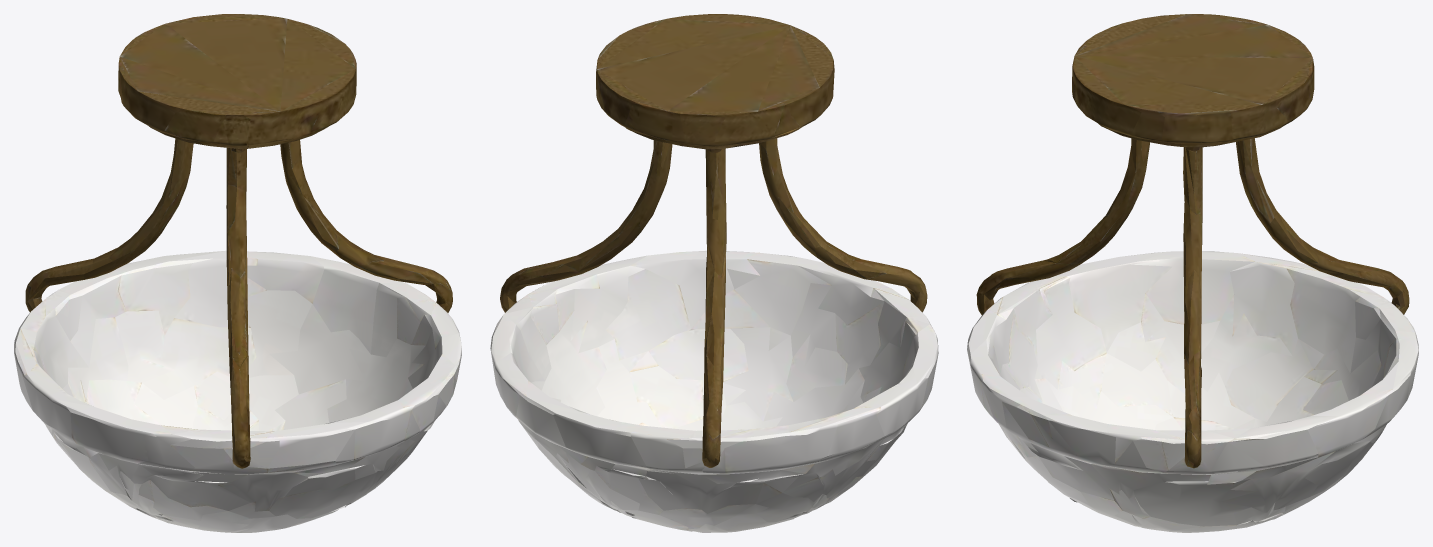
File: ceiling_lamp.glb
The picture shows the model from 3 angles, left to right: view 1: azimuth 30°, elevation 25°; view 2: azimuth 150°, elevation 25°; view 3: azimuth 270°, elevation 25°; orthographic projection.
Visible parts, largest first — view 1: Mesh_0; view 2: Mesh_0; view 3: Mesh_0.
Boxes of the visible parts, <box> form: Mesh_0: <box>14,14,461,532</box>; Mesh_0: <box>490,14,938,532</box>; Mesh_0: <box>967,14,1418,532</box>.
Size of the model in its own units: 1.83 by 1.9 by 1.75.
Materials: 1 (1 with a texture image).
